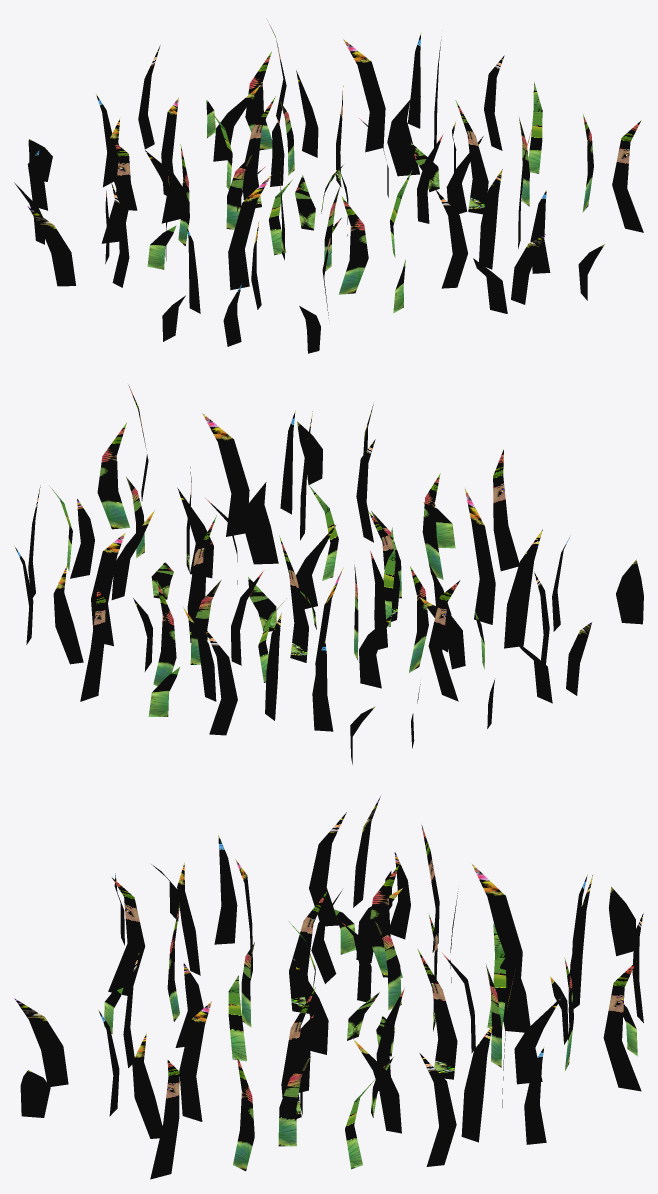
The model's file is P_Grass2.obj.
The picture shows the model from 3 angles, top to bottom: view 1: azimuth 30°, elevation 25°; view 2: azimuth 150°, elevation 25°; view 3: azimuth 270°, elevation 25°; orthographic projection. The views are drawn at different scales.
Size of the model in its own units: 1.7 by 0.3564 by 1.54.
